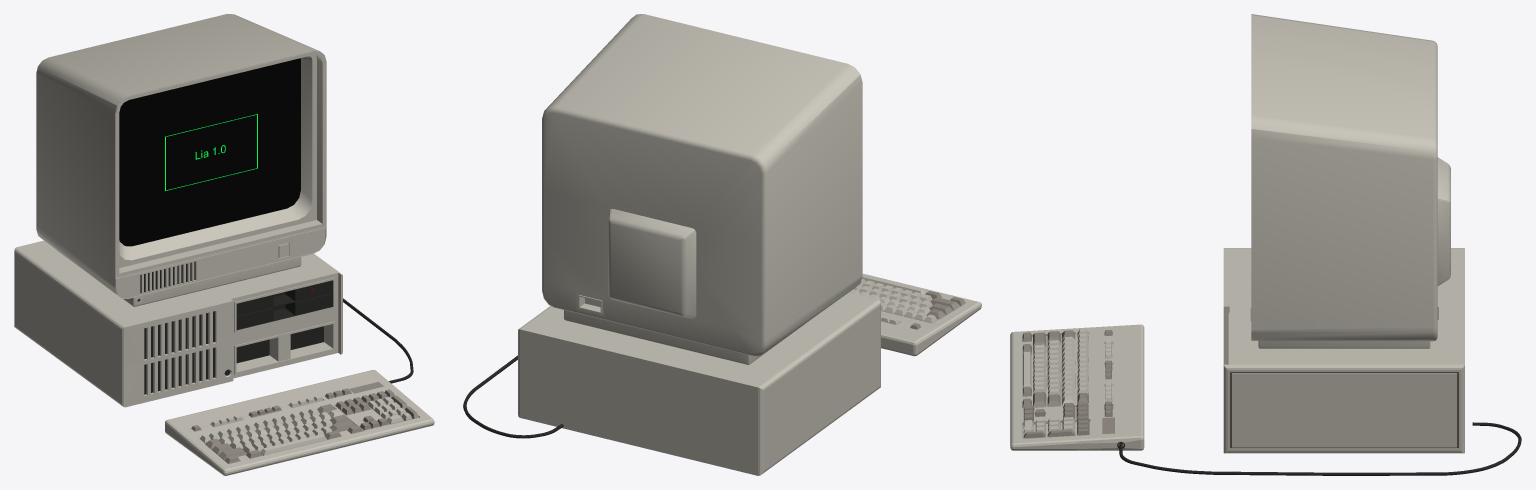
The model's file is LIA COMPUTER.glb.
The picture shows the model from 3 angles, left to right: view 1: azimuth 30°, elevation 25°; view 2: azimuth 150°, elevation 25°; view 3: azimuth 270°, elevation 25°; orthographic projection. The views are drawn at different scales.
Parts seen in each view (by area): view 1: pc_monitor_2, pc_0, BG, keyboard_4; view 2: pc_monitor_2, pc_0, keyboard_4; view 3: pc_monitor_2, pc_0, keyboard_4.
Boxes of the visible parts, <box> form: pc_monitor_2: <box>36,14,326,306</box>; pc_0: <box>14,240,342,407</box>; BG: <box>119,58,300,246</box>; keyboard_4: <box>165,298,434,475</box>; pc_monitor_2: <box>542,14,862,364</box>; pc_0: <box>518,292,880,475</box>; keyboard_4: <box>463,273,981,438</box>; pc_monitor_2: <box>1250,14,1450,348</box>; pc_0: <box>1223,248,1464,453</box>; keyboard_4: <box>1010,324,1521,475</box>.
Size of the model in its own units: 2.57 by 2.7 by 3.8.
Materials: 6 (3 with a texture image).
